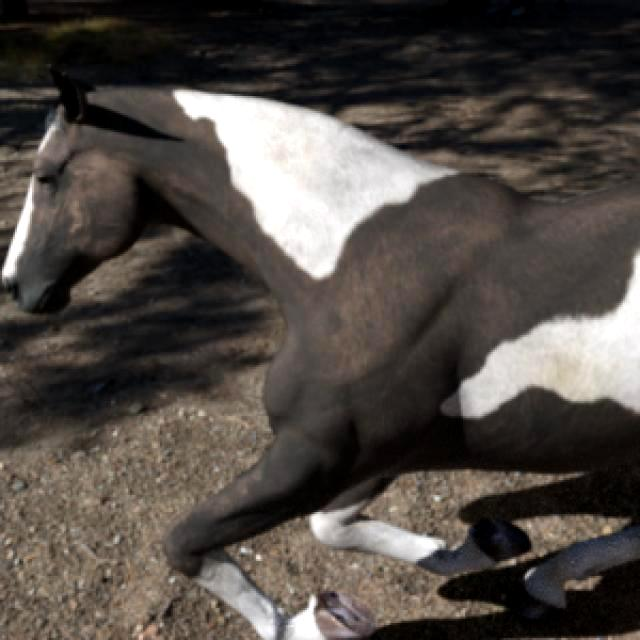horse: (2, 72, 640, 640)
